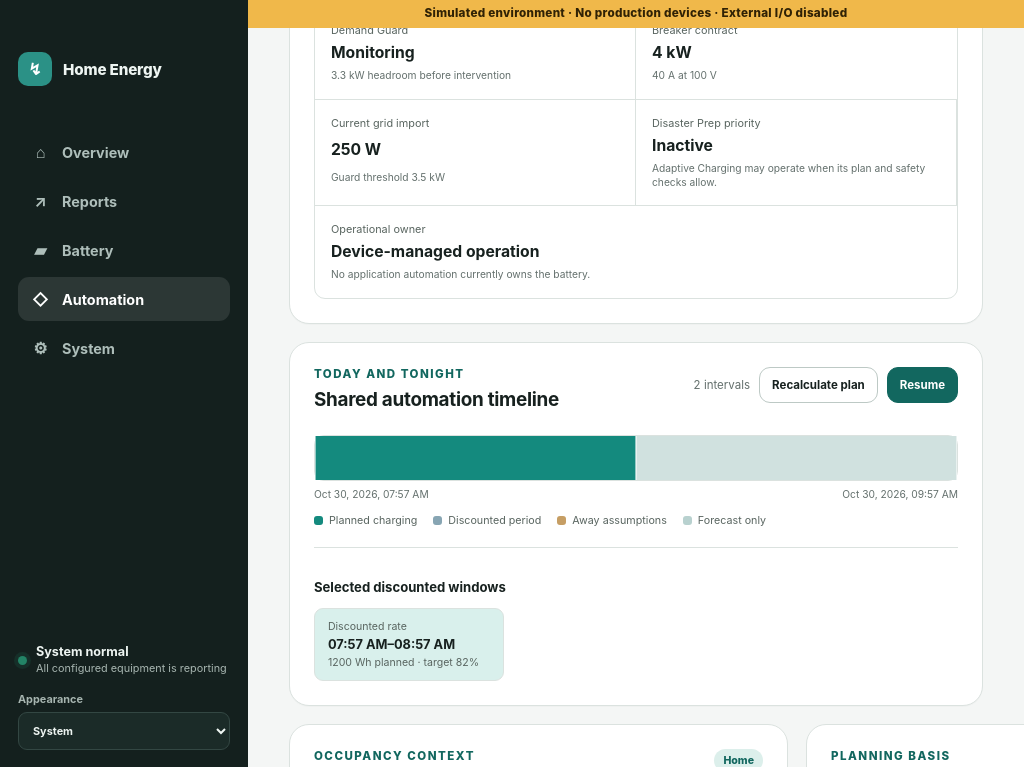
Test: React application shell › reviews the impact before resuming paused automation
(page scrolled)
Click the button "Resume" at (922, 385), box top-left (887, 367), bottom-right (958, 403)
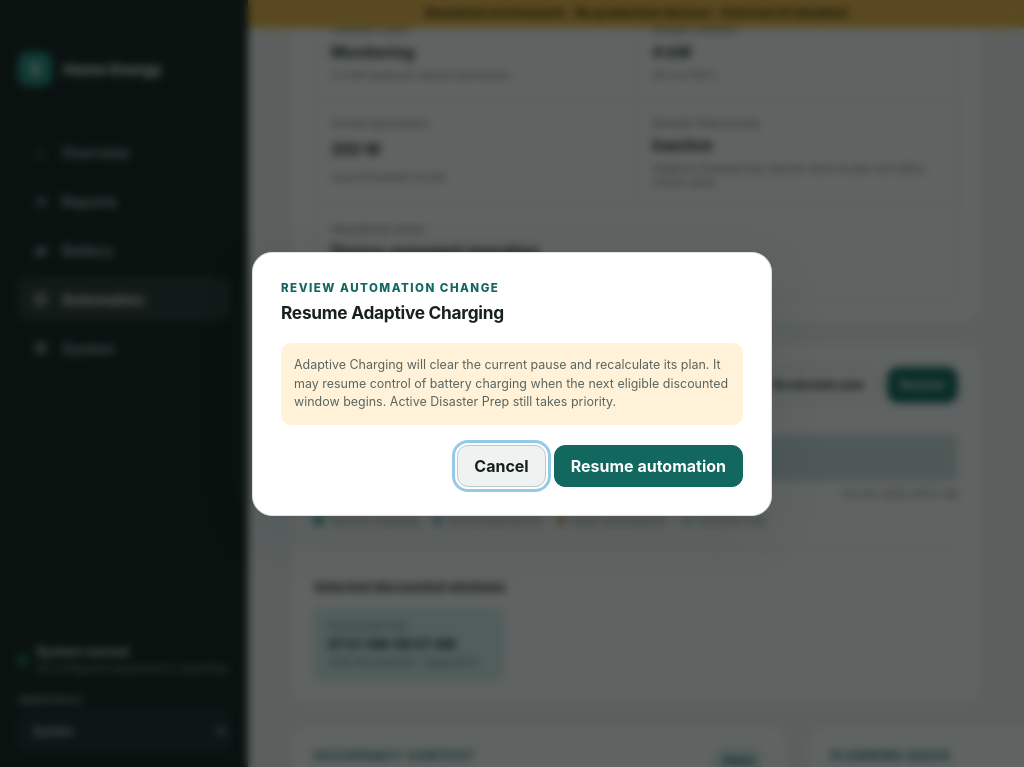
Result: the dialog "Resume Adaptive Charging" is shown at top-left (252, 252), bottom-right (772, 516)
Result: the text "may resume control of battery charging" is shown at top-left (294, 357), bottom-right (728, 409)
Click the button "Resume automation" at (648, 466), box top-left (554, 445), bottom-right (743, 487)
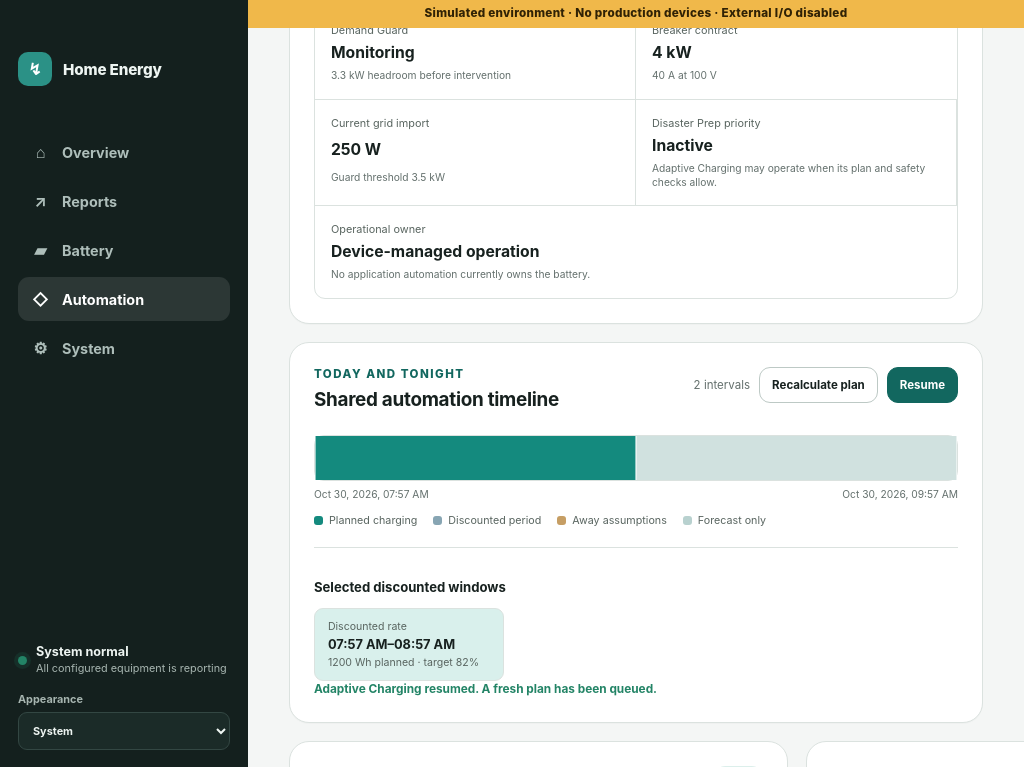
Result: the text "Adaptive Charging resumed. A fresh plan has been queued." is shown at top-left (314, 682), bottom-right (657, 696)
